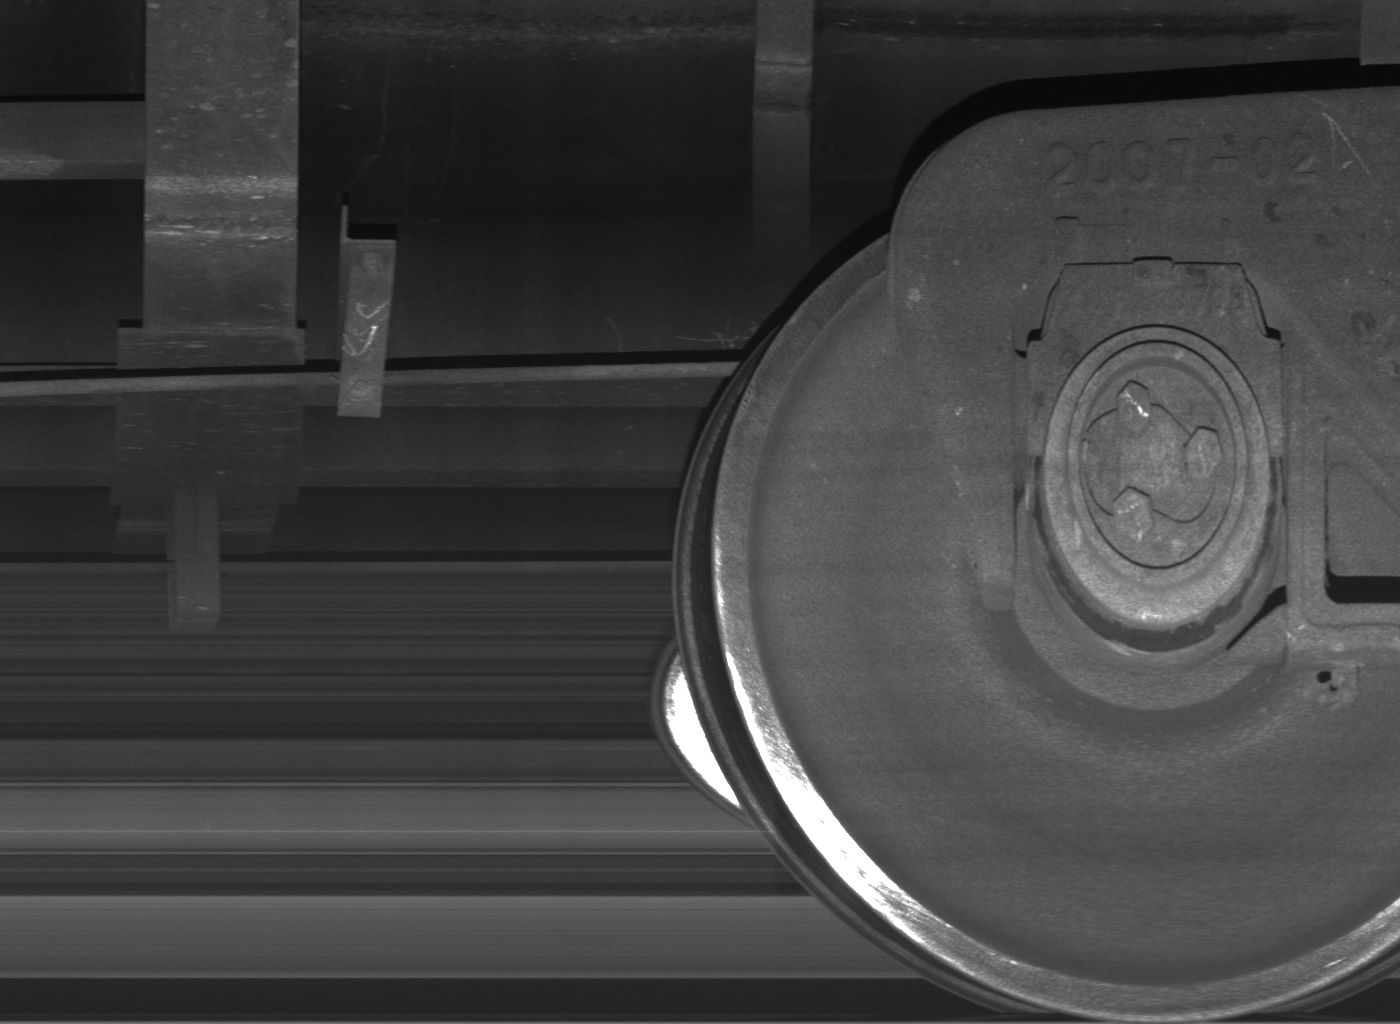normal: (332, 202, 393, 421)
